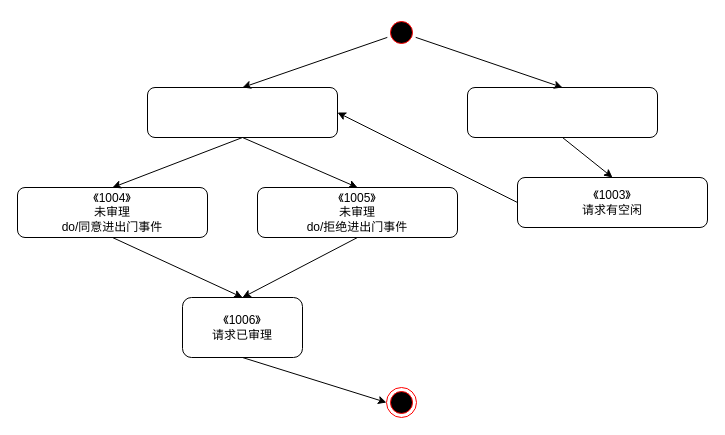
Image size: 725x435. Some labels were removed from this diagram. The centre of each missing label's shape, as x and y in pixels:
《1001》 请求成功，等待后台审理: the point at 242,112
《1002》 当前请求过多，请求加入排队队列: the point at 562,112
